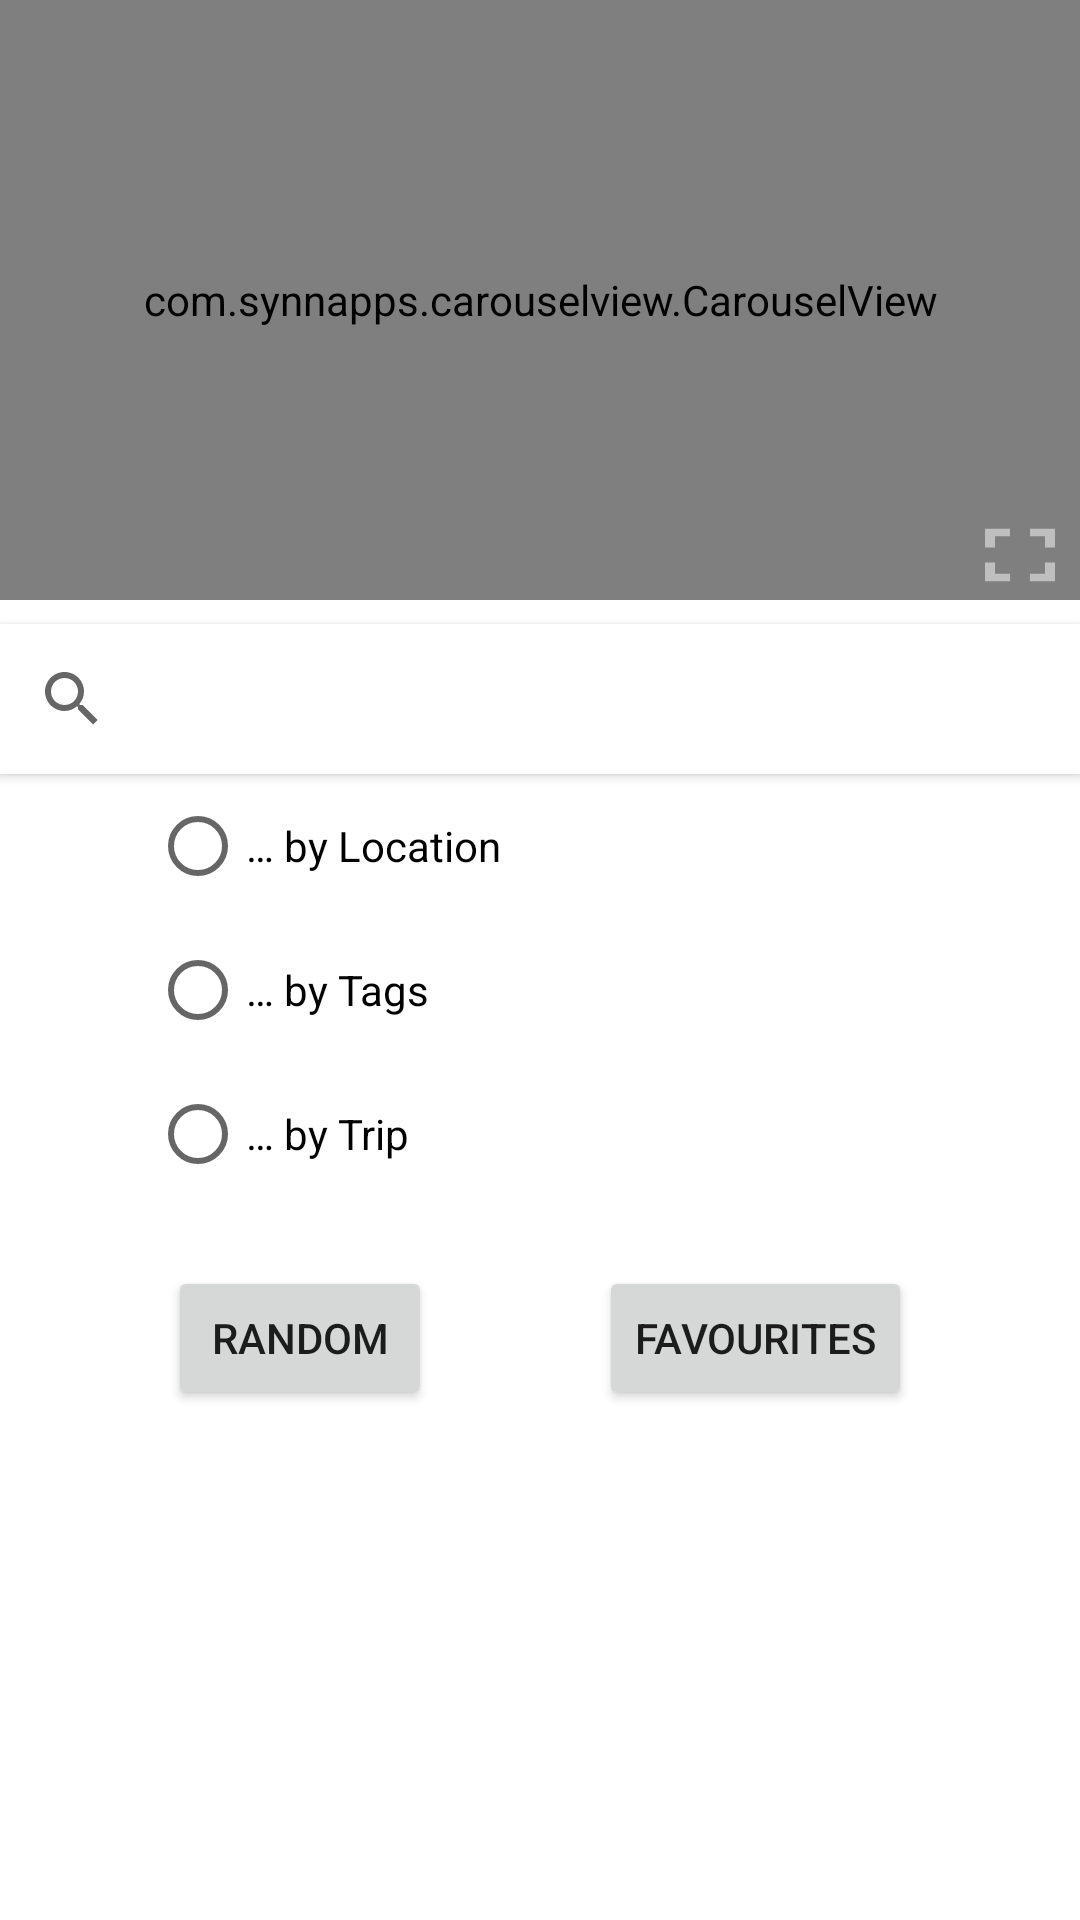

Icons on this 1080×1920 Android screen, each with its box as (x1, y1, x2, y2):
Fullscreen Button: (985, 529, 1055, 581)
